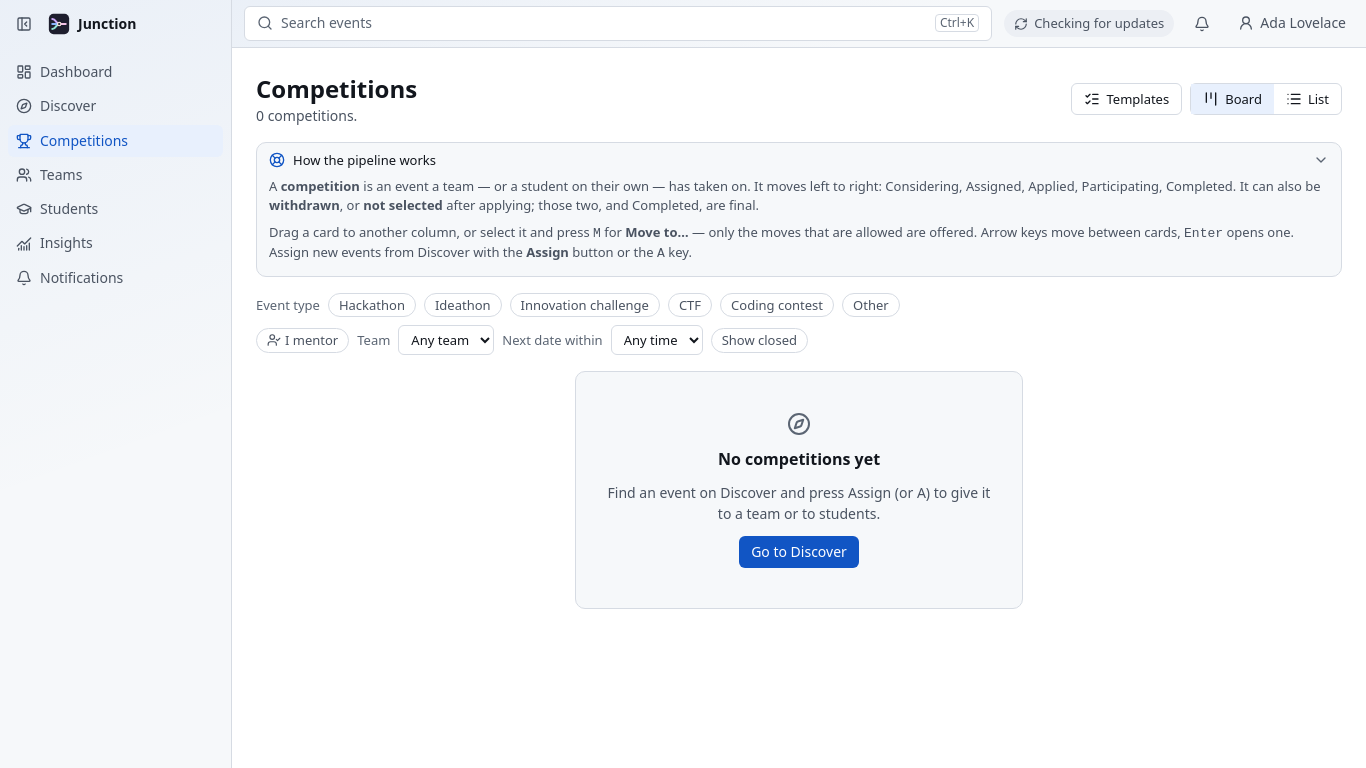
Test: the templates list › is reached from Competitions and groups defaults, yours and others’
This screenshot has width=1366, height=768.
Expected: the navigation bar named "Main" is shown, x1=0 y1=0 x2=231 y2=302
Click the link "Templates": (1127, 99) x1=1072 y1=83 x2=1182 y2=115
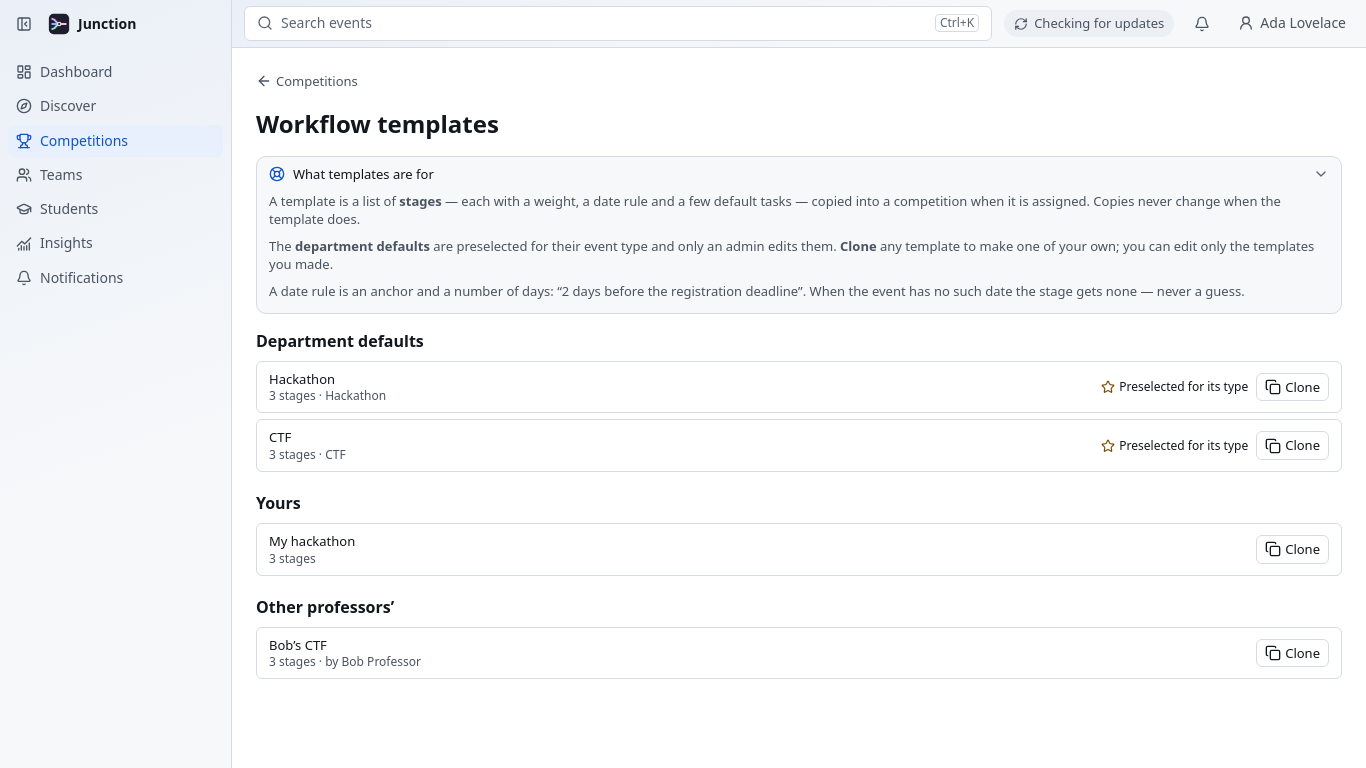
Now the heading "Workflow templates" is shown, box x1=256 y1=107 x2=499 y2=140
Now the link "Hackathon" is shown, box x1=269 y1=370 x2=335 y2=388
Now the text "Preselected for its type" is shown 2 times, box x1=1101 y1=379 x2=1248 y2=395; x1=1101 y1=438 x2=1248 y2=454
